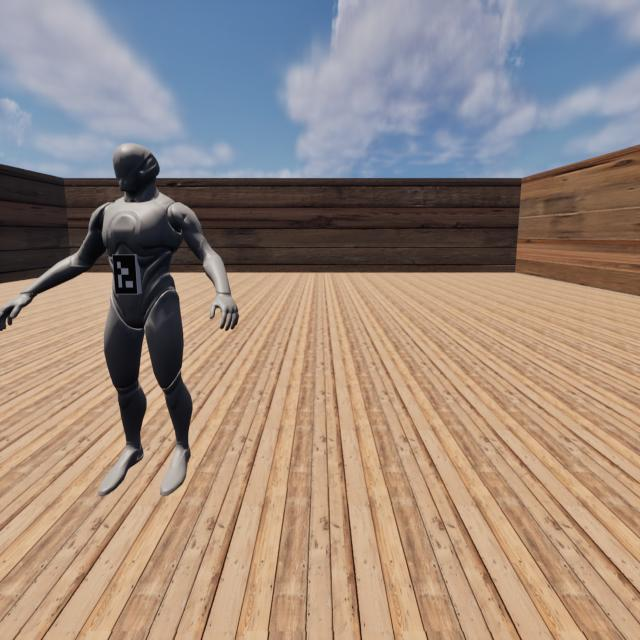aruco: (113, 255, 137, 294)
hip: (110, 290, 179, 309)
